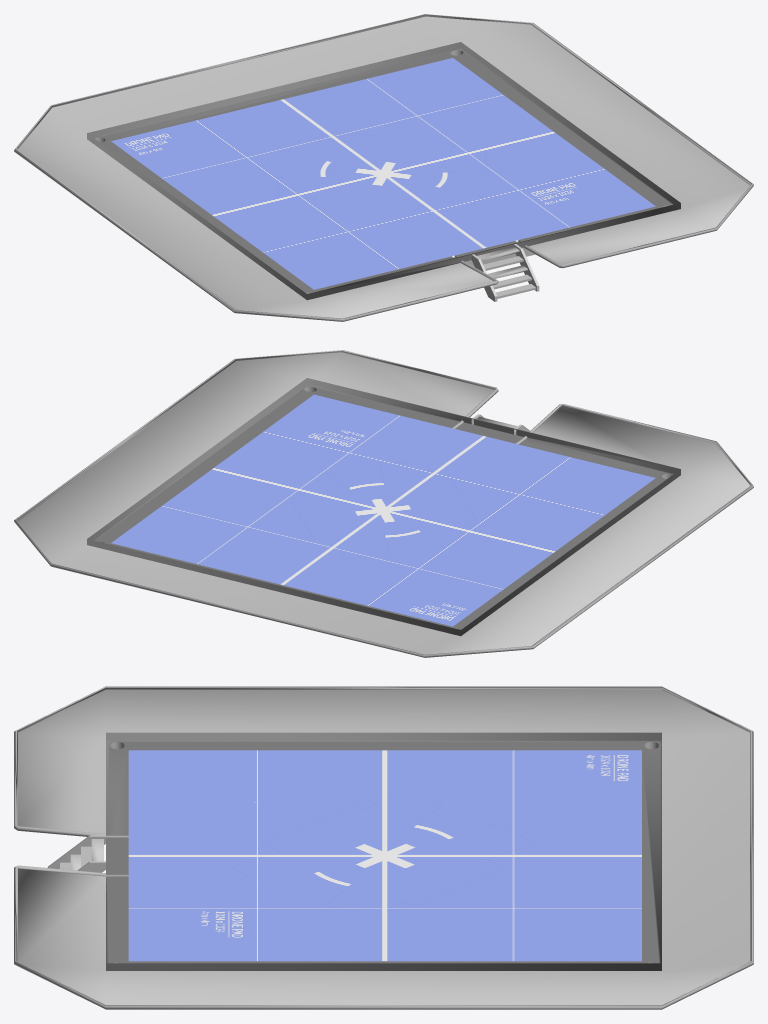
File: DronePad.fbx
The picture shows the model from 3 angles, top to bottom: view 1: azimuth 30°, elevation 25°; view 2: azimuth 150°, elevation 25°; view 3: azimuth 270°, elevation 25°; orthographic projection. The views are drawn at different scales.
Parts seen in each view (by area): view 1: DronePad; view 2: DronePad; view 3: DronePad.
Part boxes in pixels (bbox=[...]): DronePad: bbox=[14, 14, 753, 321]; DronePad: bbox=[14, 350, 753, 657]; DronePad: bbox=[14, 686, 753, 1009].
Bounding box in the file's own units: 1522 × 91.89 × 1484.
